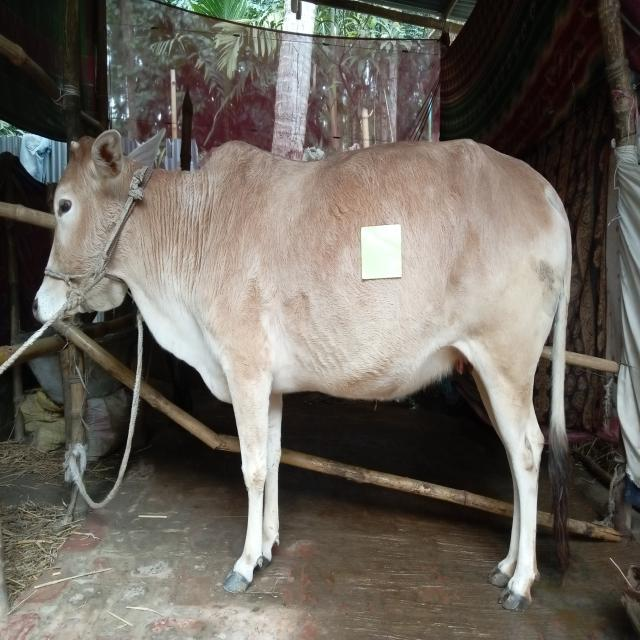badan_sapi: (223, 163, 562, 396)
sapi: (34, 126, 577, 611)
